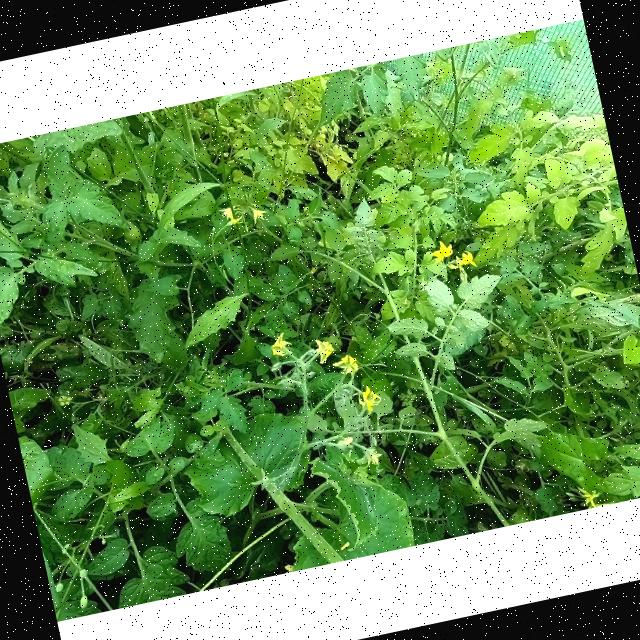Flowers: (309, 334, 338, 366), (329, 350, 362, 377), (355, 382, 383, 413), (576, 482, 606, 509), (445, 250, 477, 274), (358, 444, 386, 471), (217, 204, 248, 228), (427, 238, 457, 262), (268, 332, 294, 358), (248, 203, 269, 226), (338, 435, 356, 451)
